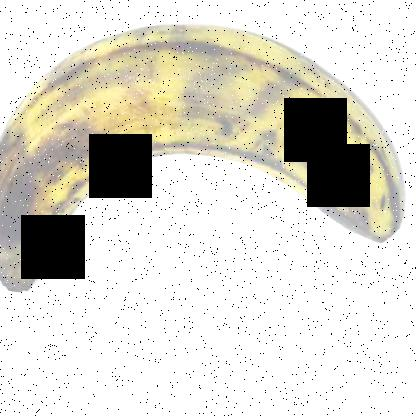overripe: (0, 1, 415, 309)
